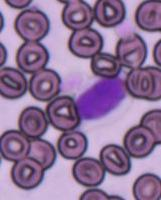L: (76, 76, 128, 122)
